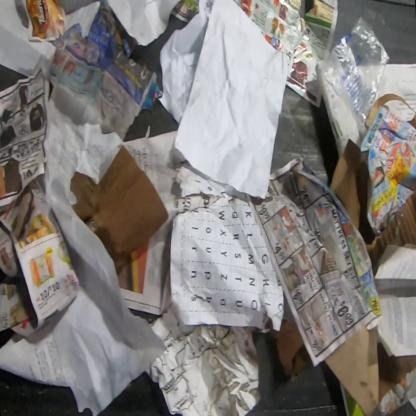cardboard: (322, 325, 380, 415), (329, 137, 375, 244), (366, 187, 415, 278)
soft_plastic: (320, 15, 390, 138)
